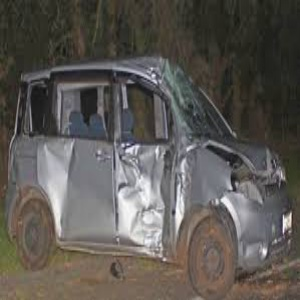door: (47, 145, 171, 252)
